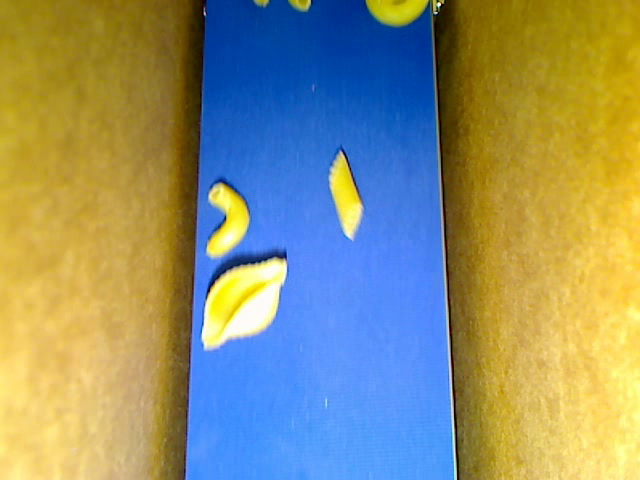elbow: (205, 181, 251, 256), (253, 1, 312, 12)
penne: (328, 150, 363, 240)
shell: (198, 256, 288, 350)
tortellini: (364, 1, 429, 27)
